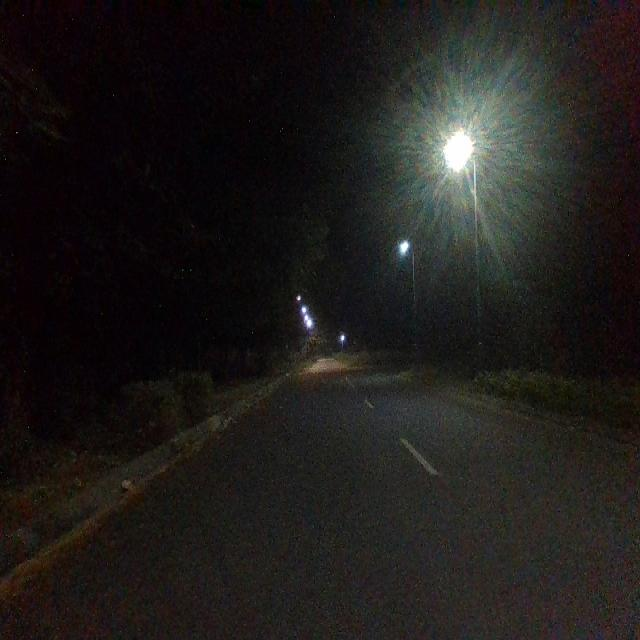lane: (0, 374, 556, 640)
